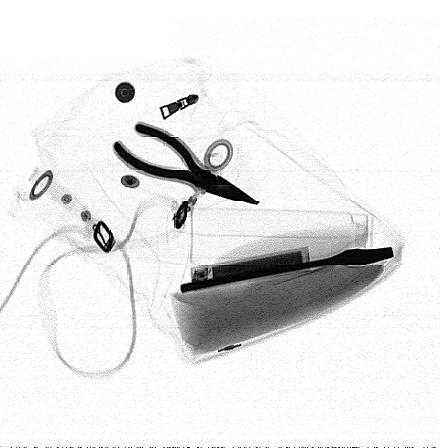Pliers: (108, 123, 261, 206)
Powerbank: (188, 246, 311, 283)
Wrench: (179, 246, 395, 294)
